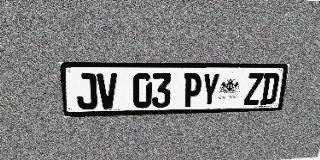0: (133, 73, 152, 108)
3: (152, 73, 171, 108)
D: (260, 73, 280, 105)
J: (75, 73, 98, 110)
P: (183, 73, 202, 107)
V: (97, 73, 118, 109)
Y: (200, 73, 220, 106)
Z: (244, 73, 264, 105)
